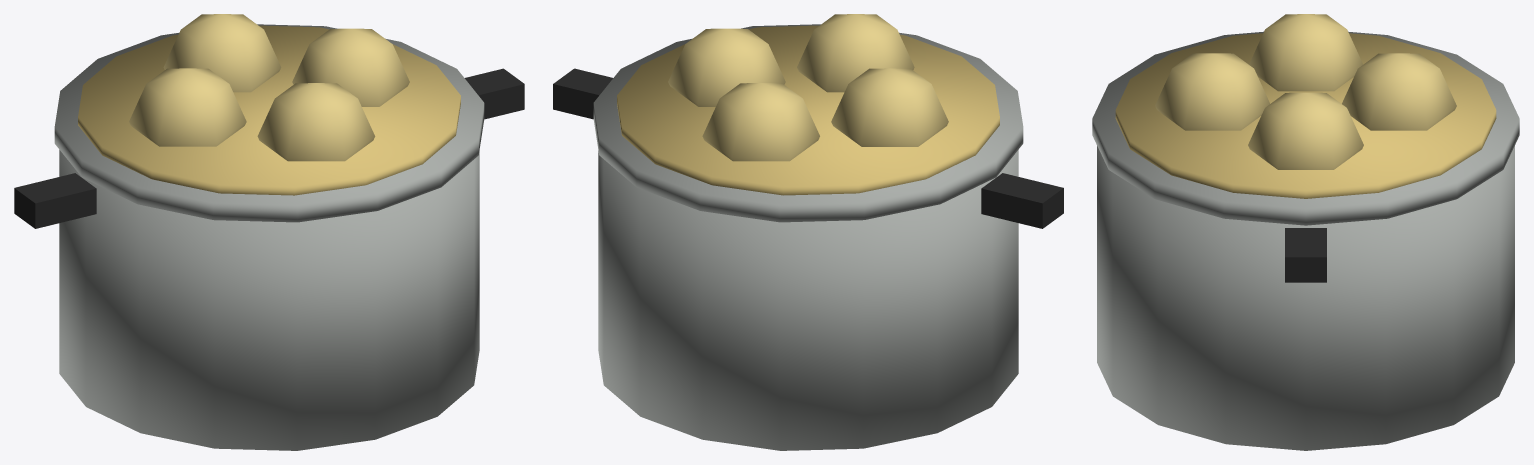
Rendered from pot_potato.glb.
The picture shows the model from 3 angles, left to right: view 1: azimuth 30°, elevation 25°; view 2: azimuth 150°, elevation 25°; view 3: azimuth 270°, elevation 25°; orthographic projection.
Parts seen in each view (by area): view 1: Item; view 2: Item; view 3: Item.
Part boxes in pixels (x1,y1,x2,y2): Item: (14, 14, 524, 450); Item: (553, 14, 1063, 450); Item: (1092, 14, 1519, 450).
Size of the model in its own units: 0.24 by 0.147 by 0.184.
